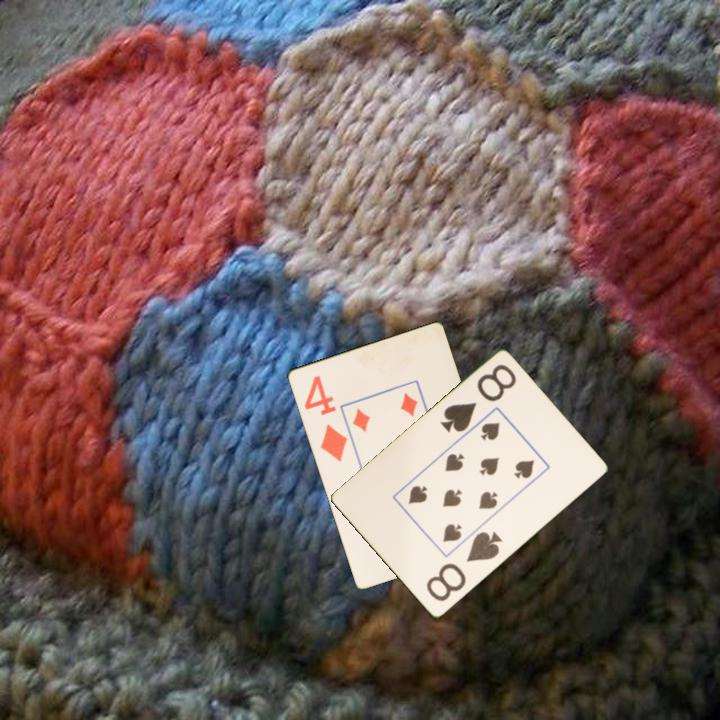4d: (300, 372, 350, 465)
8s: (422, 528, 505, 605), (437, 361, 519, 436)
